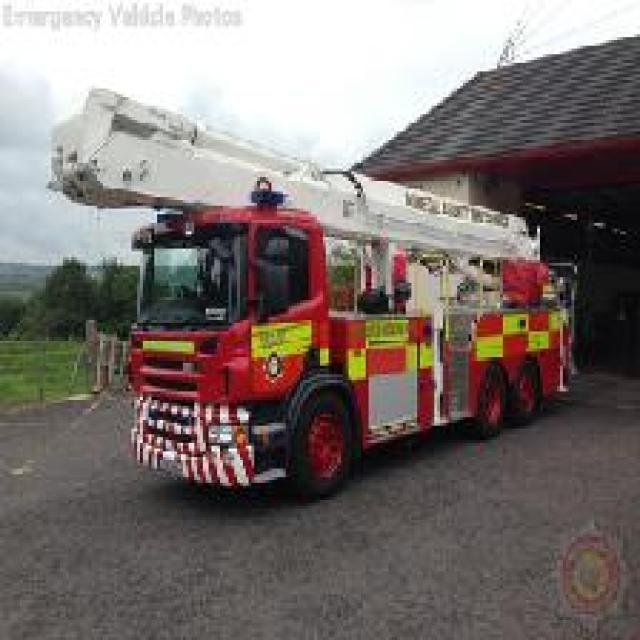emergency: (43, 80, 583, 500)
